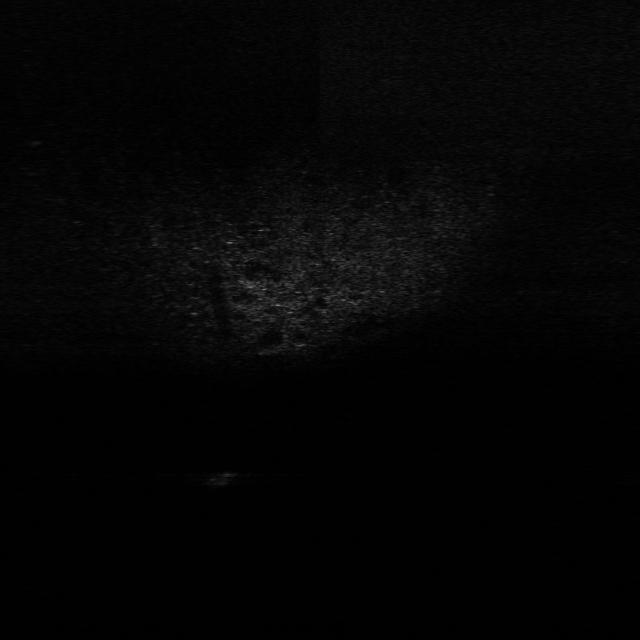cylinder: (209, 467, 237, 488)
